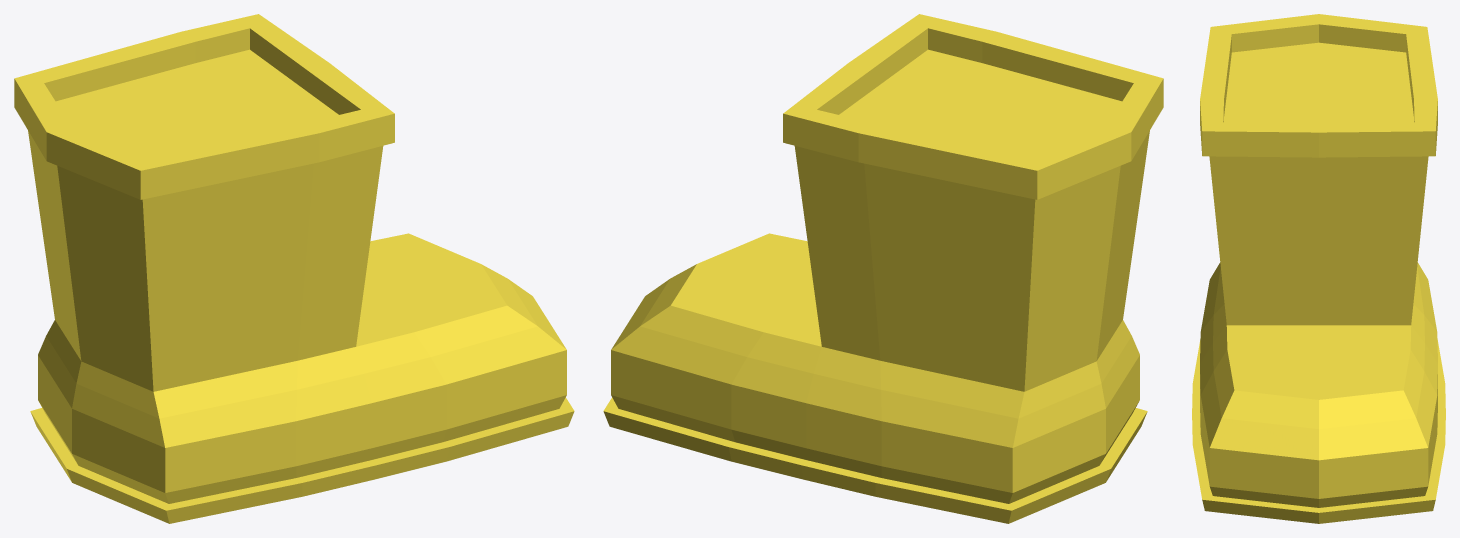
Rendered from SpeedBoot.fbx.
3 renders of one model, left to right at view 1: azimuth 30°, elevation 25°; view 2: azimuth 150°, elevation 25°; view 3: azimuth 270°, elevation 25°, orthographic. The views are drawn at different scales.
Visible parts, largest first — view 1: Cube.002; view 2: Cube.002; view 3: Cube.002.
Part boxes in pixels (x1=…): Cube.002: x1=14, y1=14, x2=574, y2=523; Cube.002: x1=603, y1=14, x2=1163, y2=523; Cube.002: x1=1192, y1=14, x2=1445, y2=523.
Size of the model in its own units: 270 by 187 by 141.
1 material, 1 textured.
